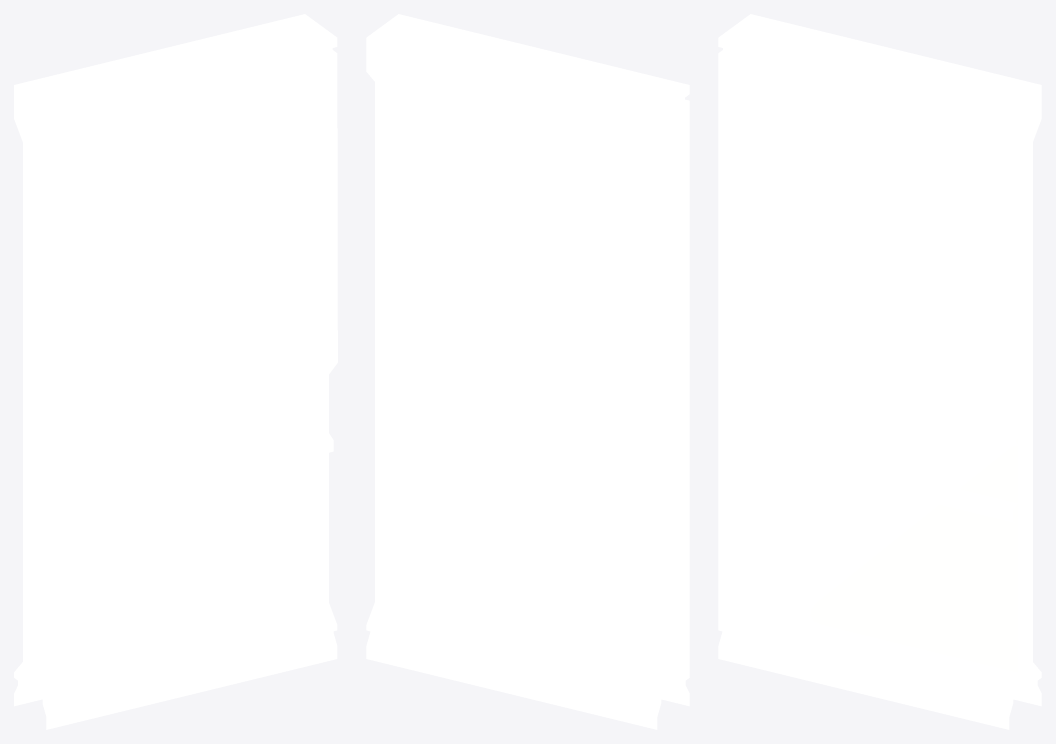
Rendered from IndustrialWall_Var_1_L.glb.
3 views of the same model, side by side, from view 1: azimuth 30°, elevation 25°; view 2: azimuth 150°, elevation 25°; view 3: azimuth 330°, elevation 25° (orthographic).
Visible parts, largest first — view 1: IndustrialWall_var_1_L; view 2: IndustrialWall_var_1_L; view 3: IndustrialWall_var_1_L.
Boxes of the visible parts, x1,y1,x2,y2 form: IndustrialWall_var_1_L: (14, 14, 337, 729); IndustrialWall_var_1_L: (366, 14, 689, 729); IndustrialWall_var_1_L: (718, 14, 1041, 729).
Bounding box in the file's own units: 1.03 × 2.1 × 0.1979.
